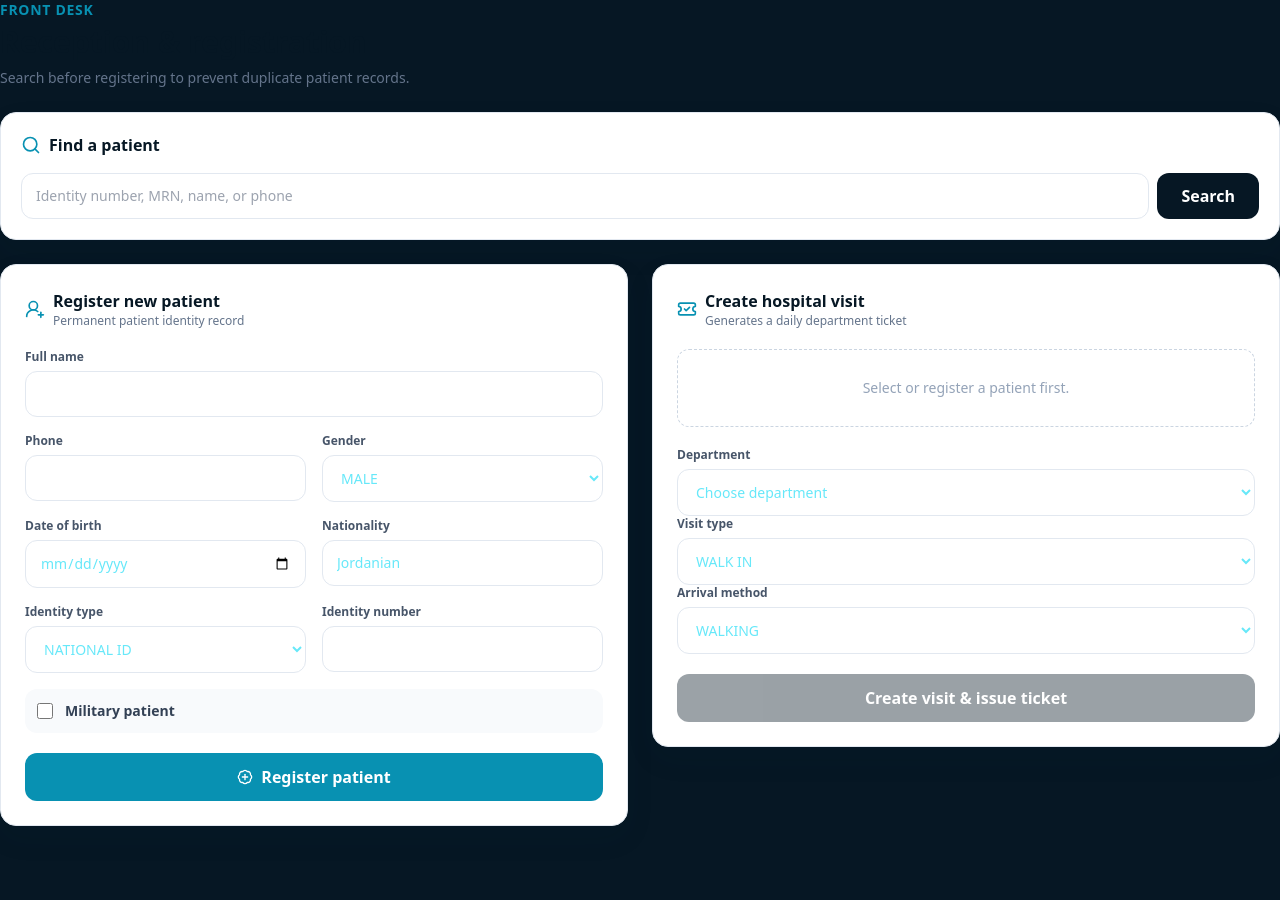
Test: ReceptionPage issued visit › lets reception cancel the visit it just issued with stale-state protection
Type "Patient One" into the field with placeholder "Identity number, MRN, name, or phone" at (585, 196), box [21,173,1149,219]
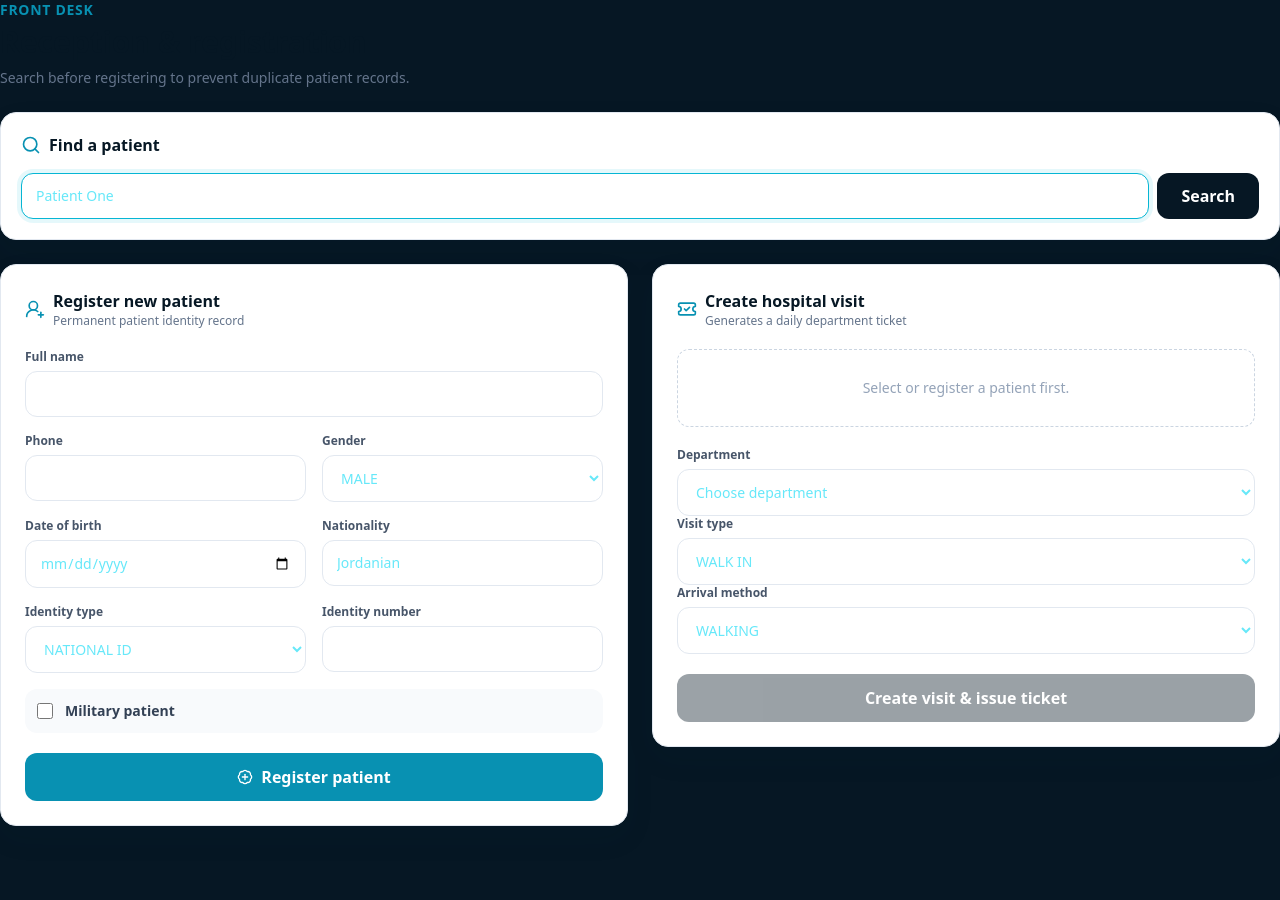
Click the button "Search" at (1208, 196), box [1157,173,1259,219]
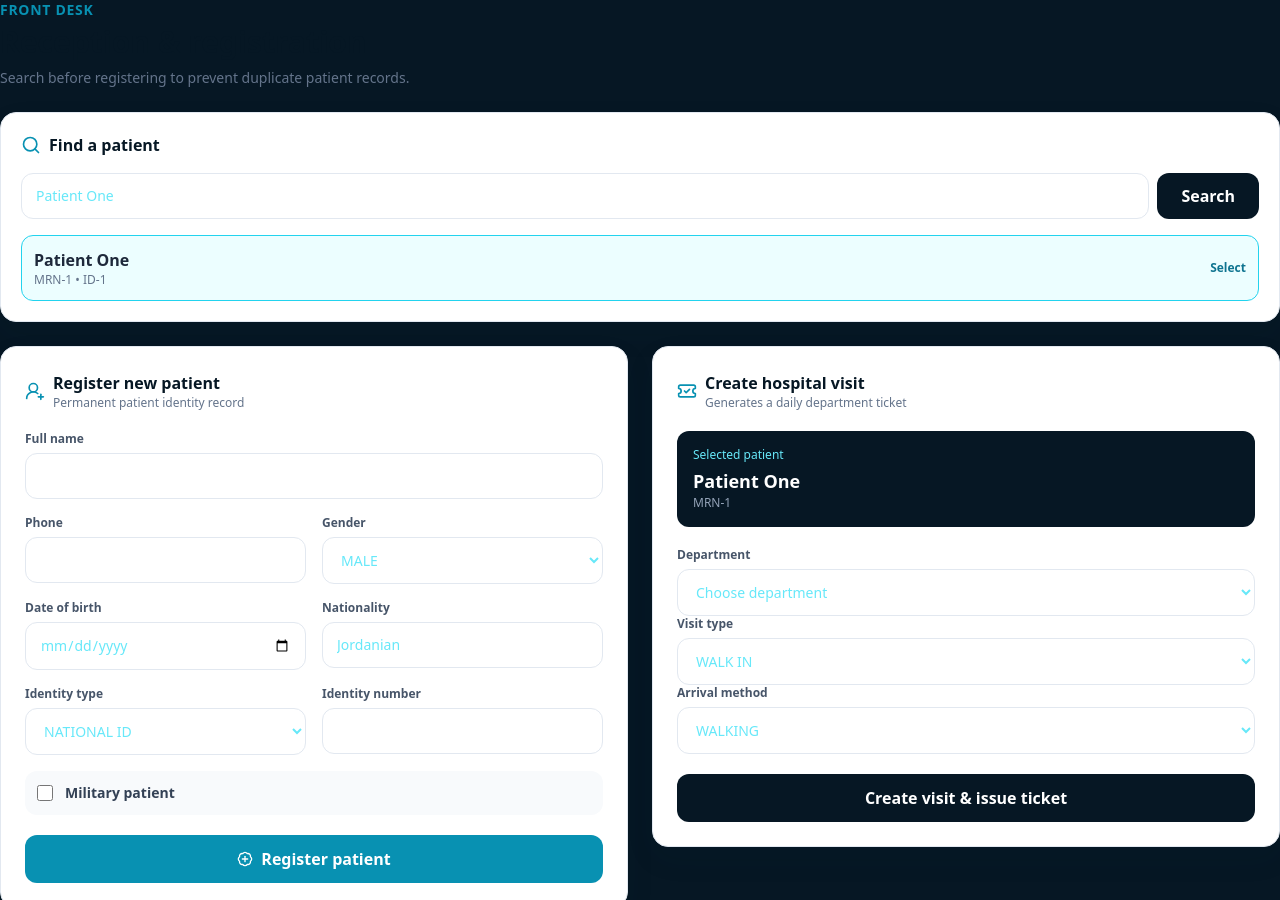
Select "Emergency" in the dropdown labelled "Department" at (966, 592), box [677,569,1255,616]
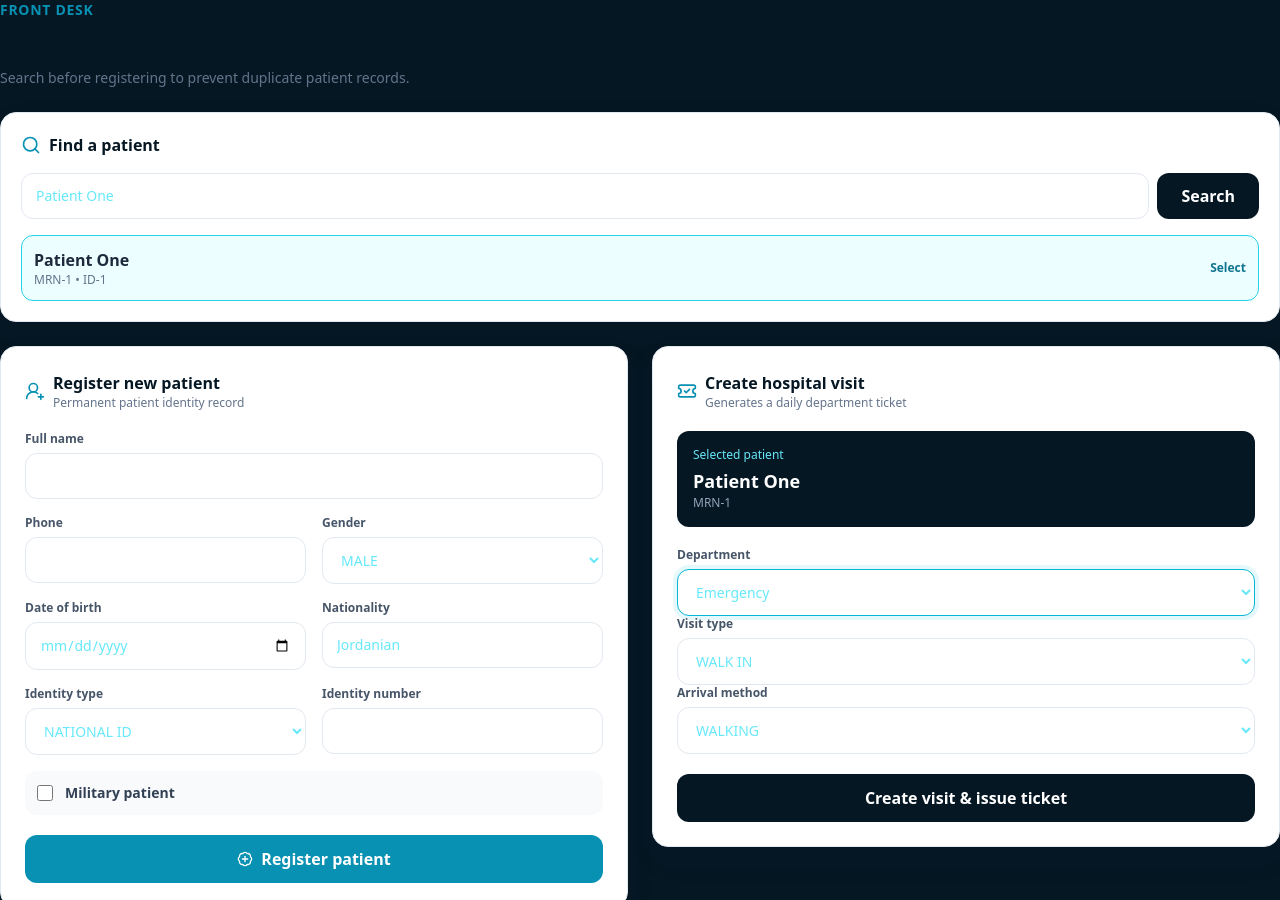
Click the button "Create visit & issue ticket" at (966, 798), box [677,774,1255,822]
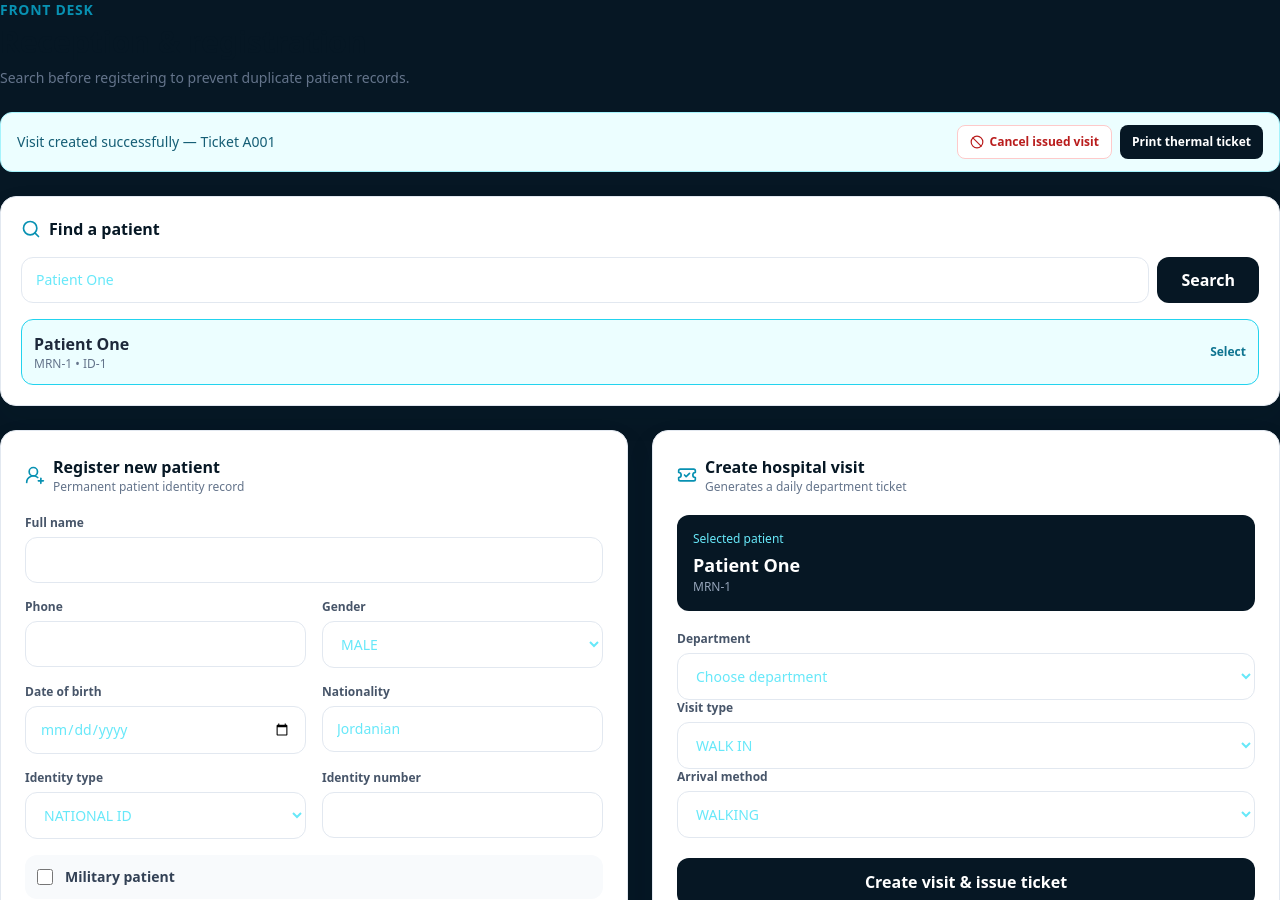
Click the button "Cancel issued visit" at (1034, 142), box [956,125,1112,159]
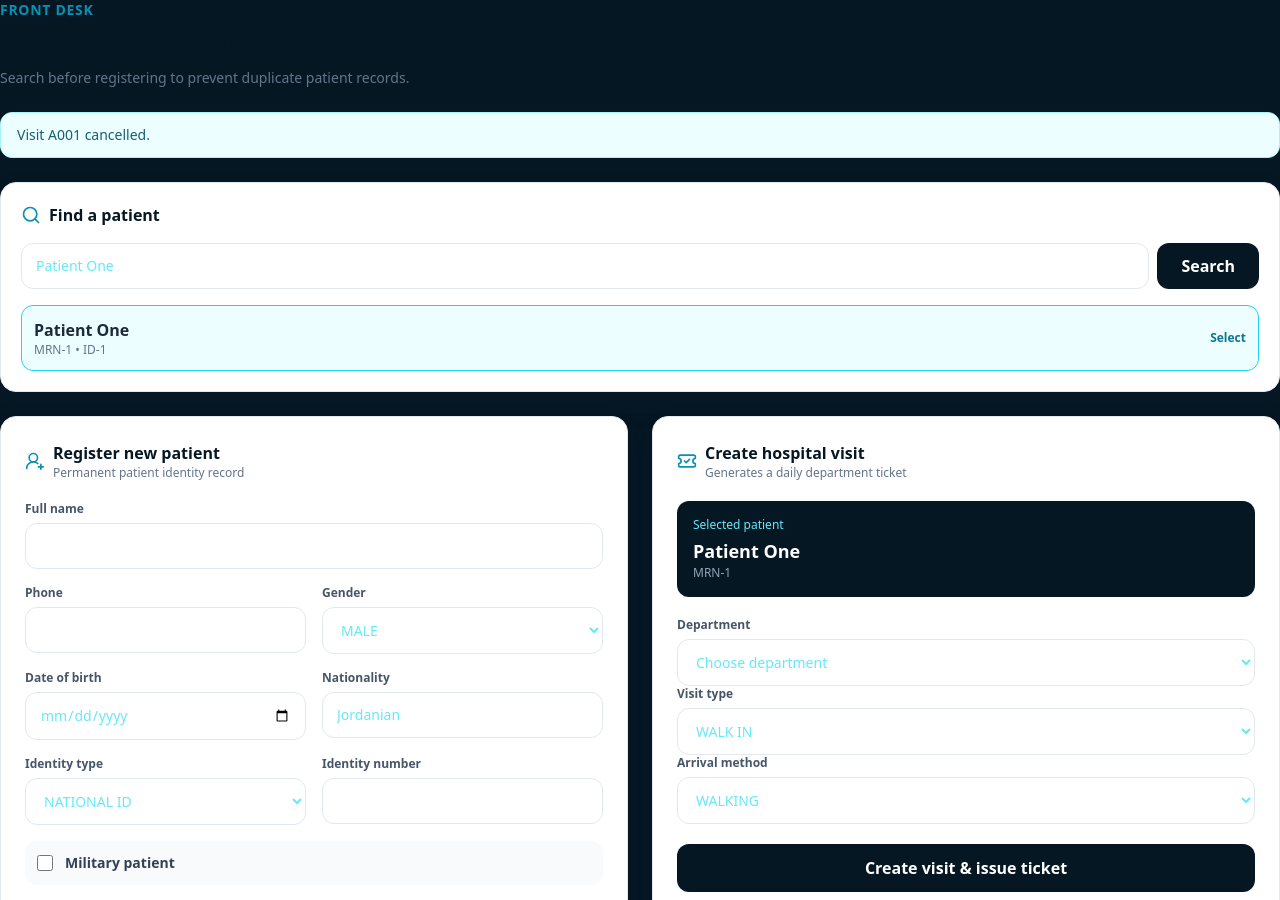
Check: the text "Visit A001 cancelled." is shown, box [17,125,150,145]
